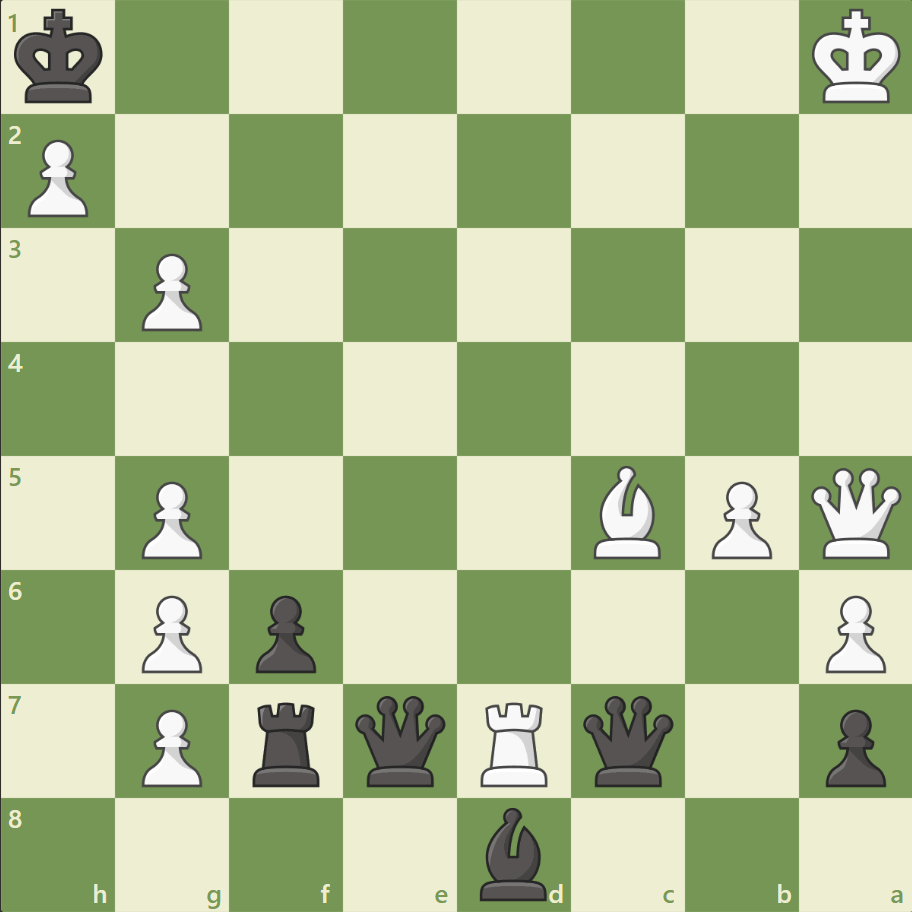B: (585, 460, 669, 563)
K: (806, 4, 906, 112)
P: (133, 700, 208, 791), (133, 586, 208, 677), (701, 473, 776, 564), (133, 473, 208, 564), (133, 246, 208, 337), (20, 132, 95, 223), (815, 586, 889, 677)
Q: (805, 463, 904, 562)
R: (473, 693, 556, 790)
b: (471, 801, 555, 904)
k: (11, 4, 111, 112)
p: (247, 586, 322, 677), (815, 700, 889, 791)
q: (578, 690, 677, 789), (351, 690, 450, 789)
r: (246, 693, 329, 790)
